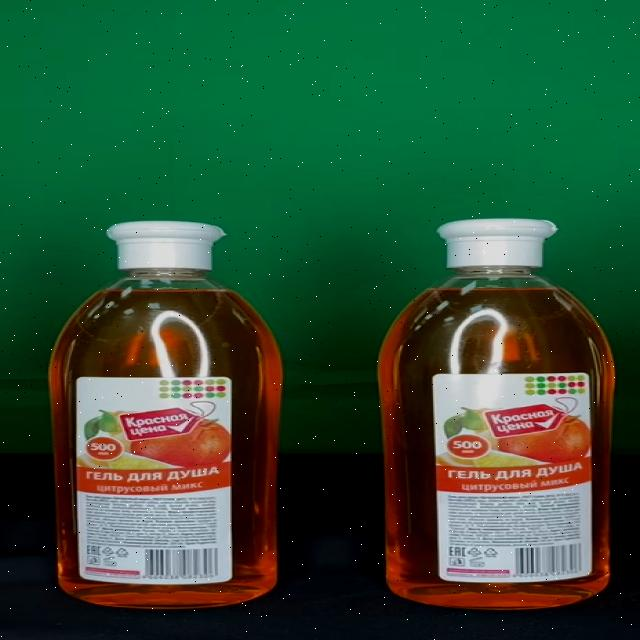Bottle: (378, 219, 618, 611), (49, 222, 286, 608)
Cap: (436, 218, 559, 268), (105, 222, 226, 270)
